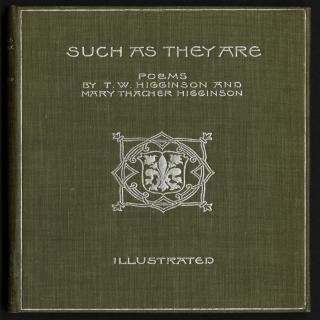book: (6, 4, 309, 312)
